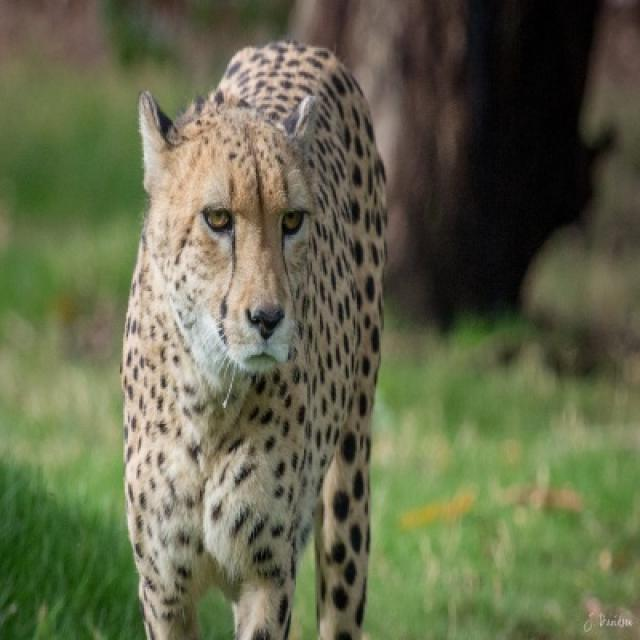Cheetah: (120, 40, 389, 638)
